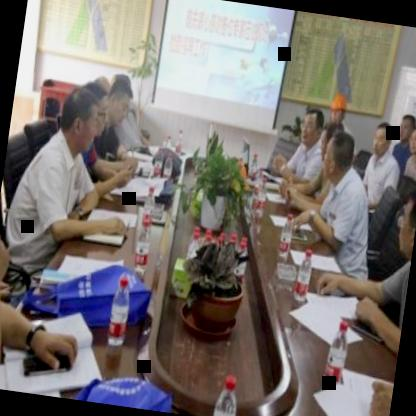head: (56, 81, 108, 163), (385, 176, 416, 265), (101, 68, 138, 136), (318, 124, 357, 186), (367, 116, 397, 160), (298, 102, 326, 146), (396, 111, 416, 143), (405, 118, 416, 157)
helmet: (324, 89, 352, 130)
